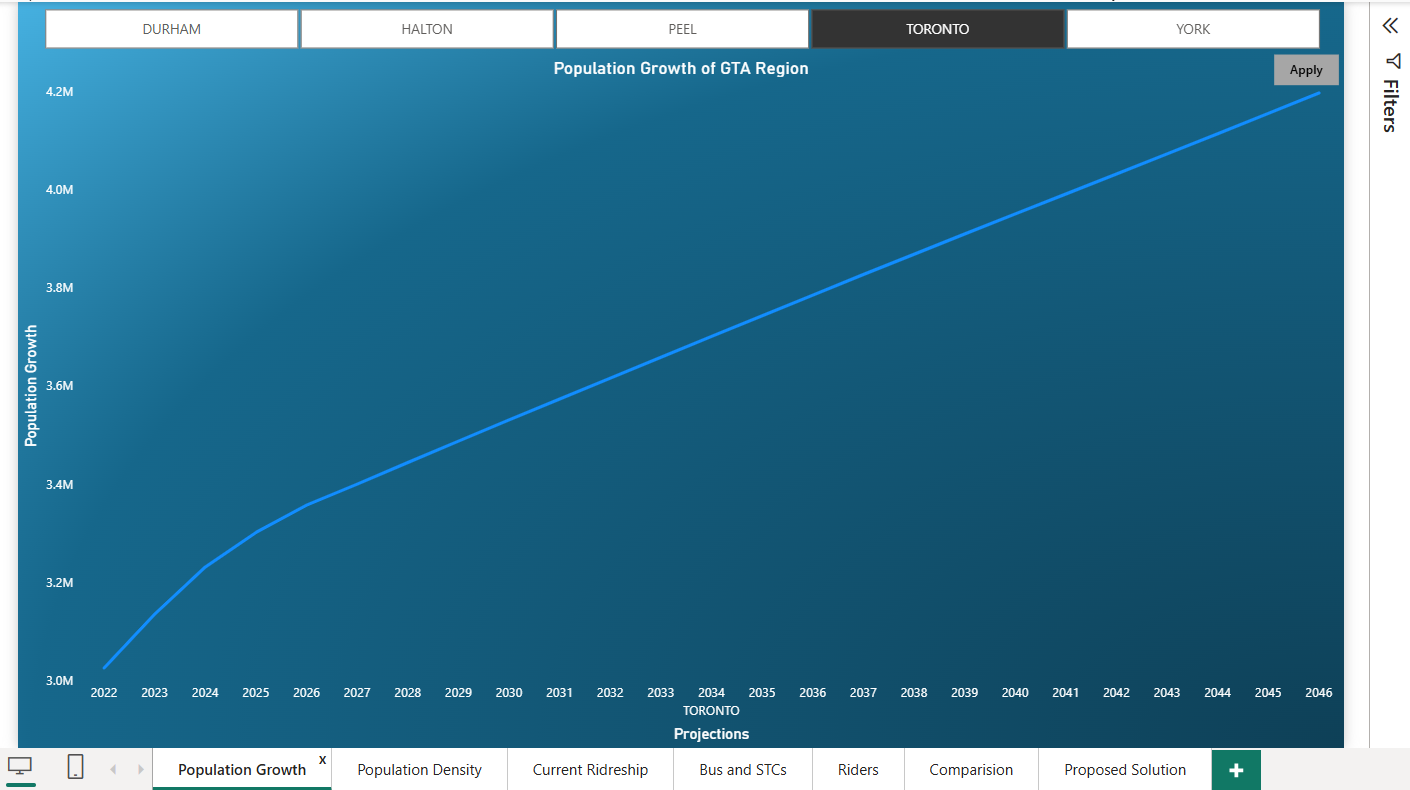

Layout of this report page (visuals, bound fields, positions):
{"tool":"powerbi","page":{"name":"Population Growth","canvas":[1280,720],"ordinal":0},"visuals":[{"type":"lineChart","title":"Population Growth of GTA Region","fields":{"Category":["49 Regions.REGION NAME","49 Regions.YEAR (JULY 1)"],"Y":["Sum(49 Regions.TOTAL)"]},"box":[0,53.3,1280,666.7],"z":0},{"type":"slicer","fields":{"Values":["49 Regions.REGION NAME"]},"box":[0,0,1280,85.7],"z":1000}]}

Visuals, with their boxes on the page's 1280x720 design canvas (x1, y1, x2, y2). These are canvas units, not pixel positions in the 1410x790 screenshot, which may show the page scaled, cropped or inside an application window:
"Population Growth of GTA Region" lineChart: <region>0, 53, 1280, 720</region>
slicer - 49 Regions.REGION NAME: <region>0, 0, 1280, 86</region>
